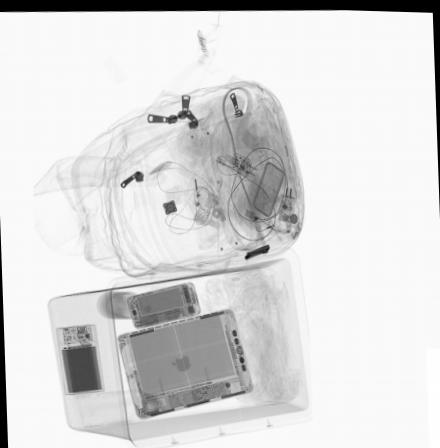Powerbank: (54, 322, 103, 394)
